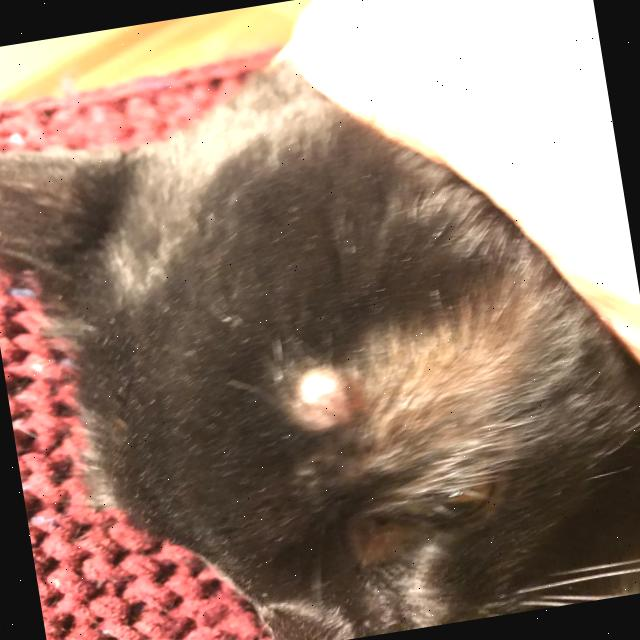cat-lump-and-bump: (268, 352, 364, 431)
